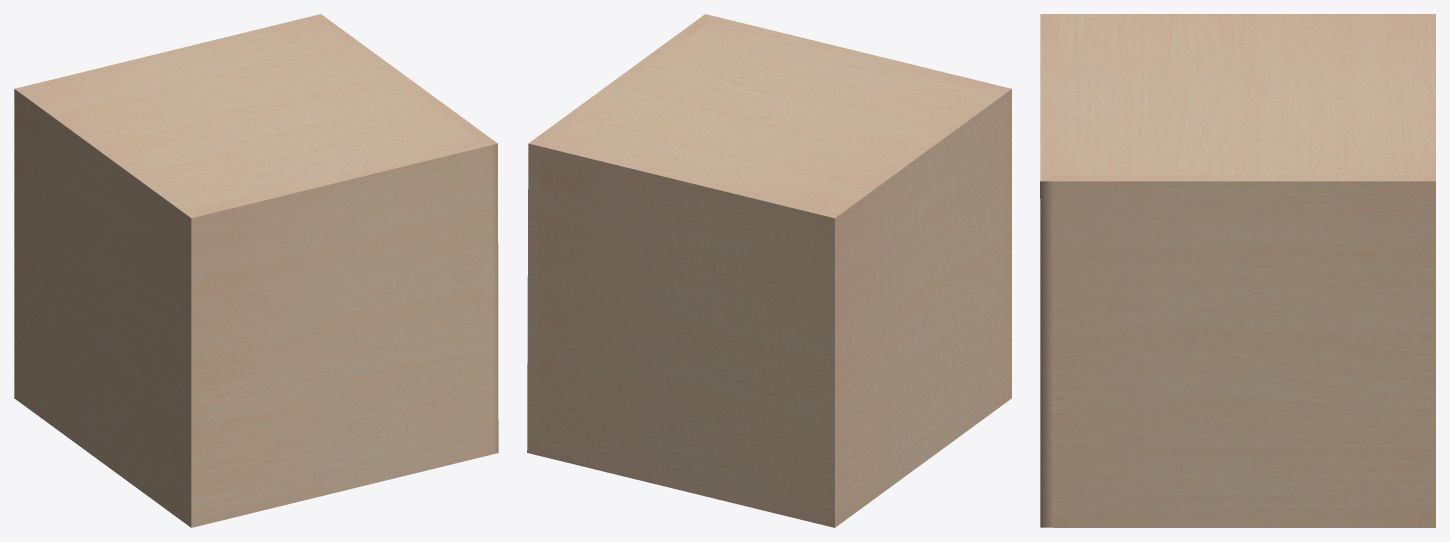
The model's file is wall_corner.FBX.
3 renders of one model, left to right at view 1: azimuth 30°, elevation 25°; view 2: azimuth 150°, elevation 25°; view 3: azimuth 270°, elevation 25°, orthographic. The views are drawn at different scales.
Visible parts, largest first — view 1: wall_corner; view 2: wall_corner; view 3: wall_corner.
Boxes of the visible parts, x1,y1,x2,y2 form: wall_corner: [14, 14, 498, 527]; wall_corner: [527, 14, 1011, 527]; wall_corner: [1040, 14, 1435, 527].
Bounding box in the file's own units: 1.04 × 1.04 × 1.
Materials: 1 (1 with a texture image).
